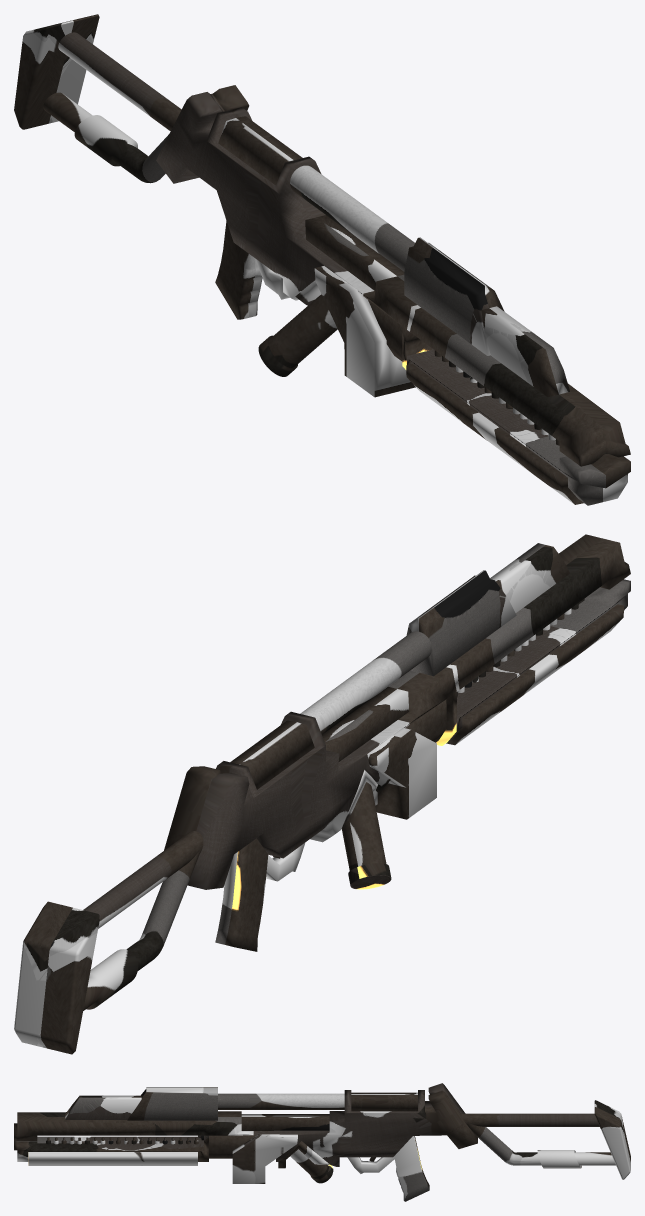
Rendered from Gunproxy.fbx.
The picture shows the model from 3 angles, top to bottom: view 1: azimuth 30°, elevation 25°; view 2: azimuth 150°, elevation 25°; view 3: azimuth 270°, elevation 25°; orthographic projection. The views are drawn at different scales.
Parts seen in each view (by area): view 1: Cube.001; view 2: Cube.001; view 3: Cube.001.
Boxes of the visible parts, bbox=[...] form: Cube.001: bbox=[14, 14, 630, 505]; Cube.001: bbox=[14, 534, 630, 1054]; Cube.001: bbox=[14, 1083, 630, 1201].
Bounding box in the file's own units: 0.0877 × 0.1803 × 0.8996.
